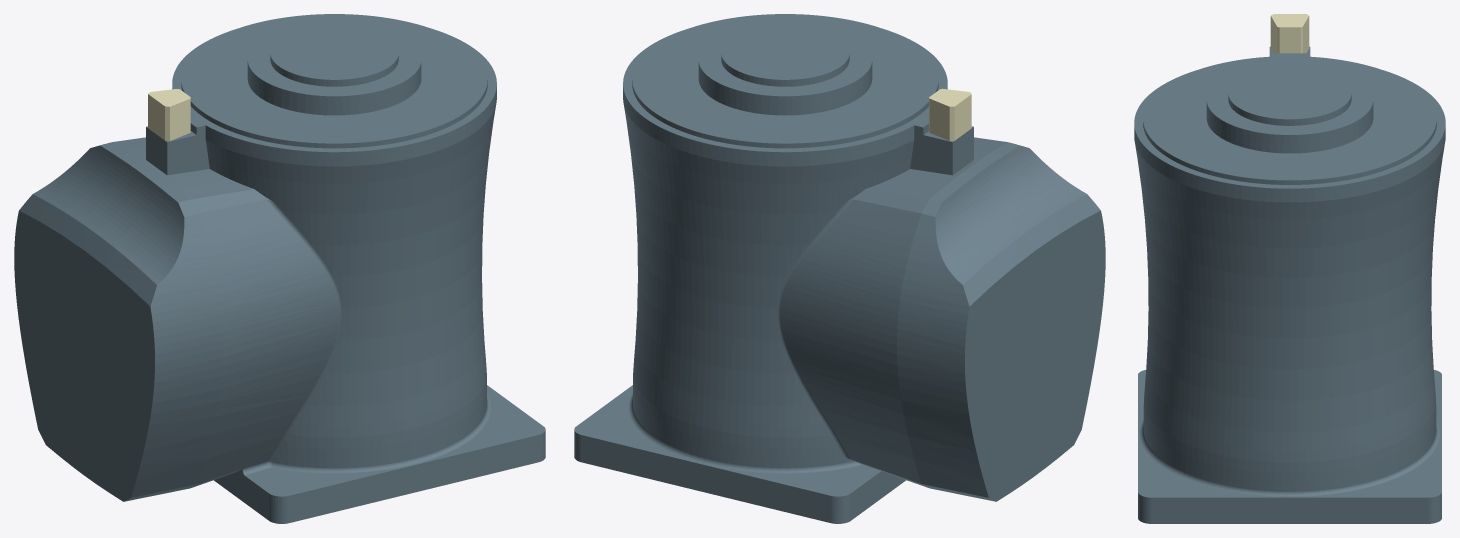
3 renders of one model, left to right at view 1: azimuth 30°, elevation 25°; view 2: azimuth 150°, elevation 25°; view 3: azimuth 270°, elevation 25°, orthographic. The views are drawn at different scales.
Visible parts, largest first — view 1: base_link; view 2: base_link; view 3: base_link.
Part boxes in pixels (x1=…): base_link: x1=14, y1=14, x2=545, y2=523; base_link: x1=574, y1=14, x2=1105, y2=523; base_link: x1=1134, y1=14, x2=1445, y2=523.
Size of the model in its own units: 0.2985 by 0.215 by 0.279.
